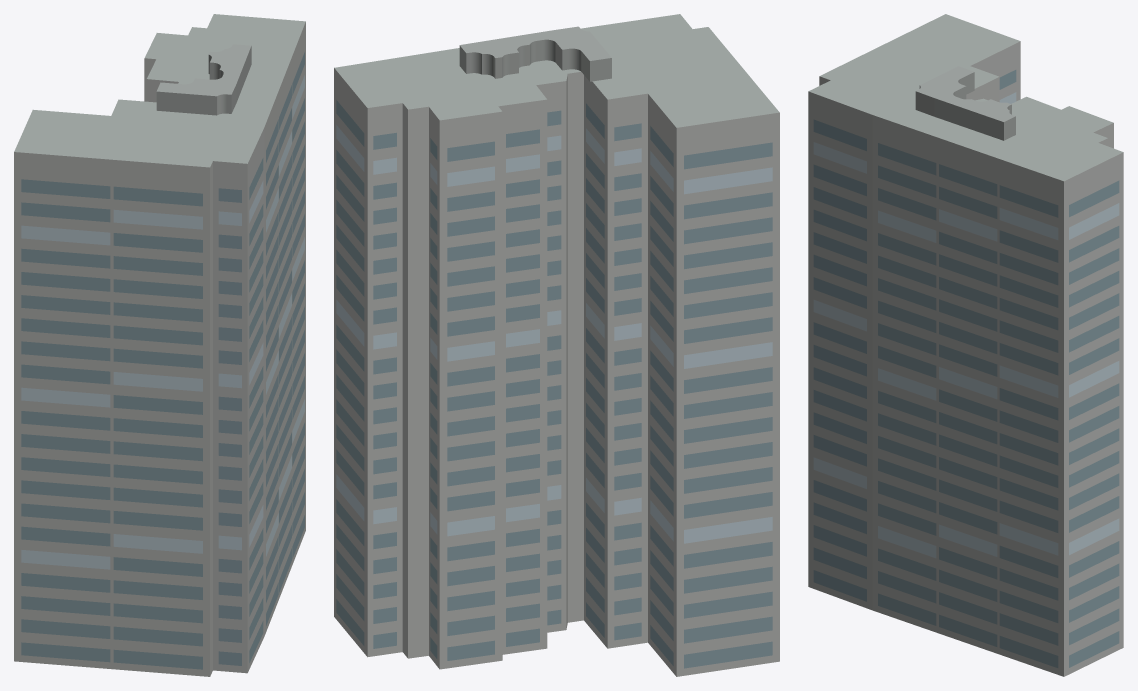
Rendered from fallback-godeok-arteon-completion-330.glb.
3 renders of one model, left to right at view 1: azimuth 30°, elevation 25°; view 2: azimuth 150°, elevation 25°; view 3: azimuth 270°, elevation 25°, orthographic. The views are drawn at different scales.
Visible parts, largest first — view 1: fallback-godeok-arteon-completion-330; view 2: fallback-godeok-arteon-completion-330; view 3: fallback-godeok-arteon-completion-330.
Part boxes in pixels (left/top/right/bottom): fallback-godeok-arteon-completion-330: left=14, top=14, right=305, bottom=676; fallback-godeok-arteon-completion-330: left=334, top=14, right=779, bottom=676; fallback-godeok-arteon-completion-330: left=808, top=14, right=1123, bottom=676.
Size of the model in its own units: 46.07 by 66 by 36.67.
